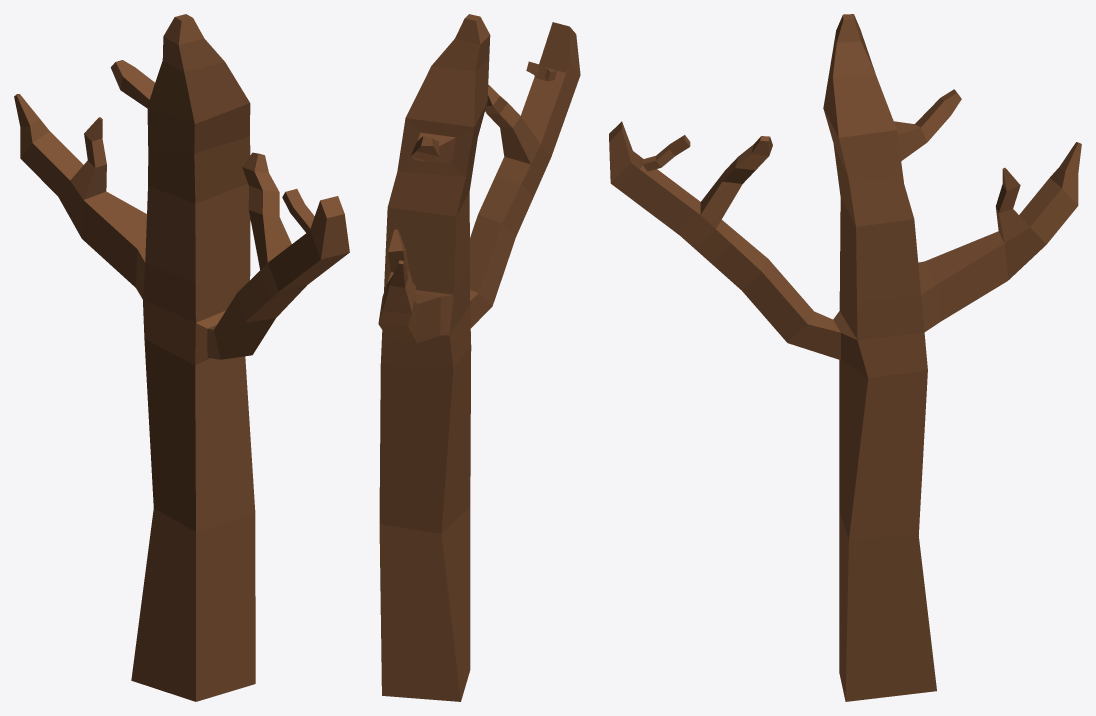
The model's file is deadtreeplain1.fbx.
The picture shows the model from 3 angles, left to right: view 1: azimuth 30°, elevation 25°; view 2: azimuth 150°, elevation 25°; view 3: azimuth 270°, elevation 25°; orthographic projection. The views are drawn at different scales.
Visible parts, largest first — view 1: Cube.001; view 2: Cube.001; view 3: Cube.001.
Boxes of the visible parts, x1,y1,x2,y2 form: Cube.001: (14, 14, 349, 701); Cube.001: (378, 14, 580, 701); Cube.001: (609, 14, 1081, 701).
Size of the model in its own units: 32.01 by 171 by 112.
